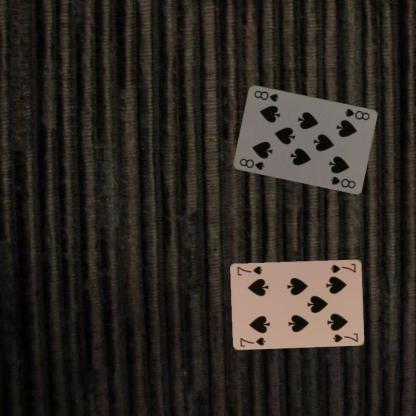7s: (328, 260, 357, 274), (237, 334, 266, 348)
8s: (341, 106, 370, 122), (236, 156, 266, 171)
